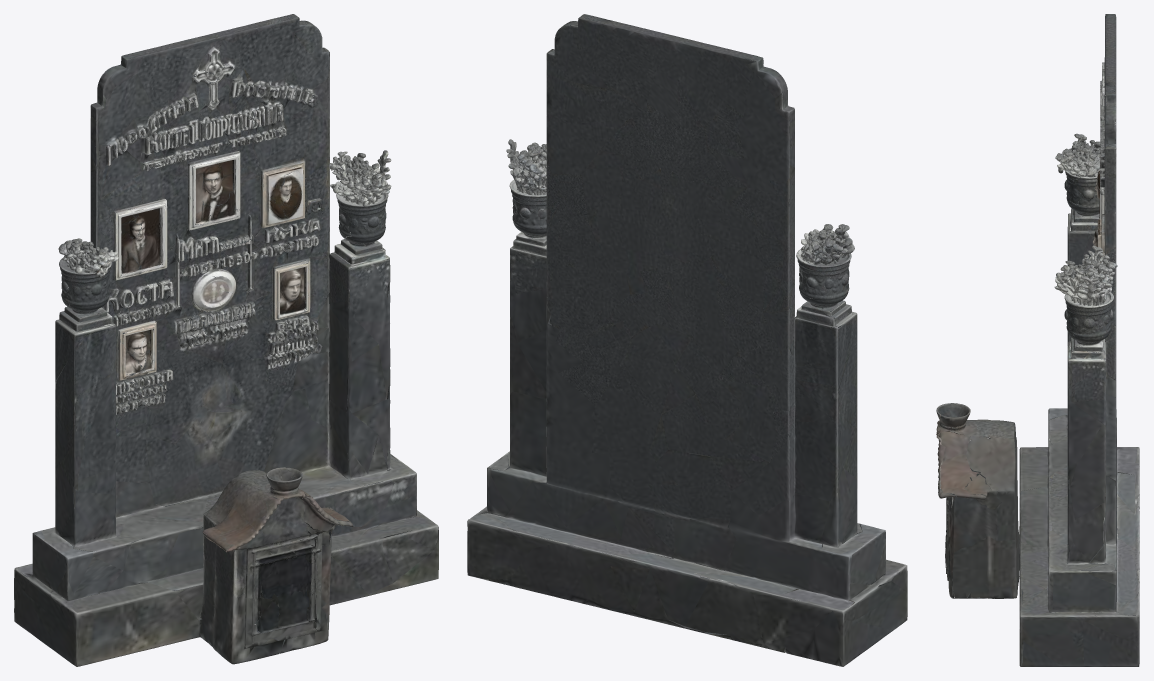
The model's file is djordje-arandjelovic.glb.
3 views of the same model, side by side, from view 1: azimuth 30°, elevation 25°; view 2: azimuth 150°, elevation 25°; view 3: azimuth 270°, elevation 25° (orthographic). The views are drawn at different scales.
Bounding box in the file's own units: 1.31 × 1.9 × 0.6629.
1 material, 1 textured.
